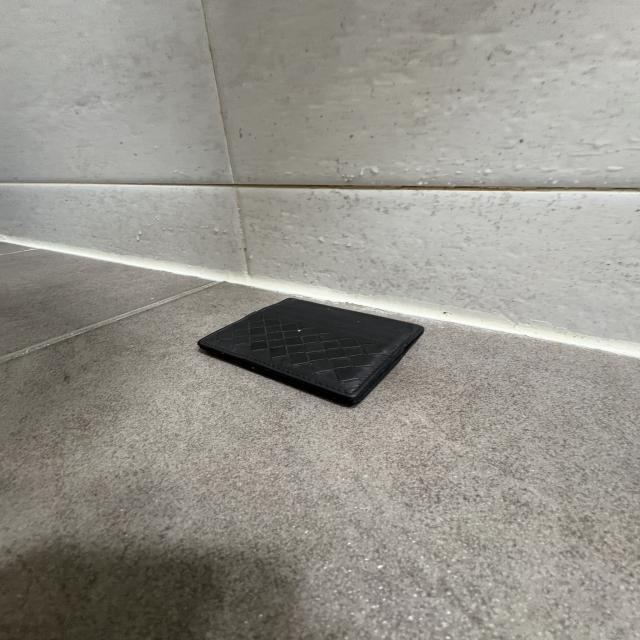wallet: (201, 295, 428, 410)
